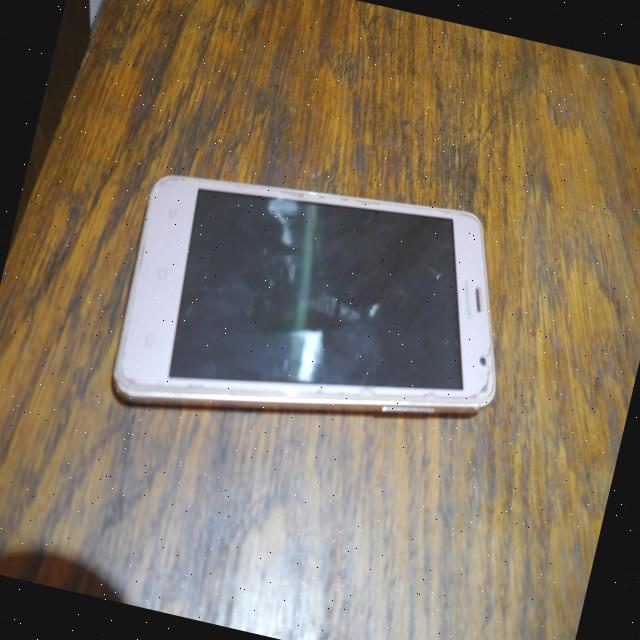Phone: (102, 139, 534, 481)
